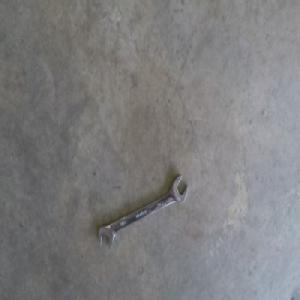Wrench: (98, 174, 188, 248)
